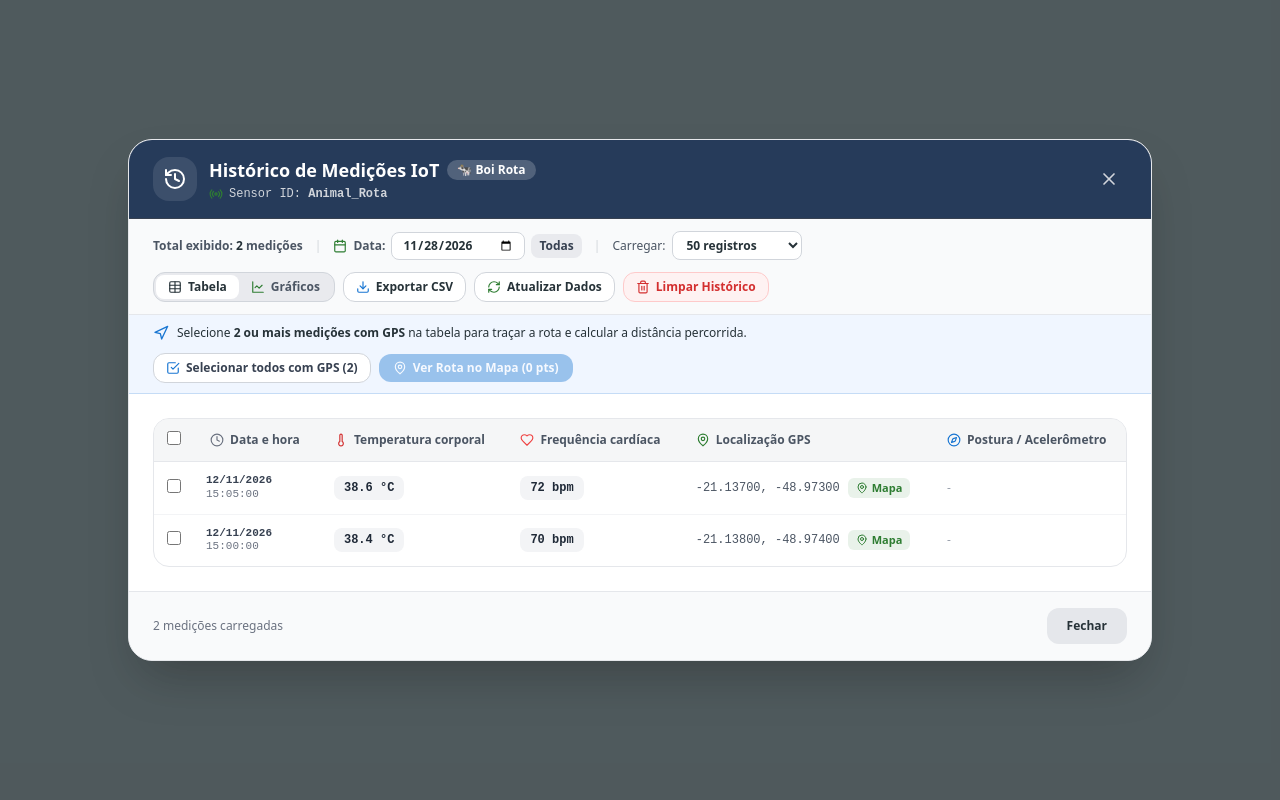
it: Modal de Histórico de Telemetria (HistoricoMedicoesModal) › mantém a barra de seleção de rota fixa e calcula distância ao selecionar 2 pontos com GPS
The image size is (1280, 800).
Check: the text "Selecionar todos com GPS (2)" is shown, box x1=186 y1=360 x2=358 y2=376
Click the button "Selecionar todos com GPS (2)" at point(262, 368), box x1=153 y1=353 x2=371 y2=383
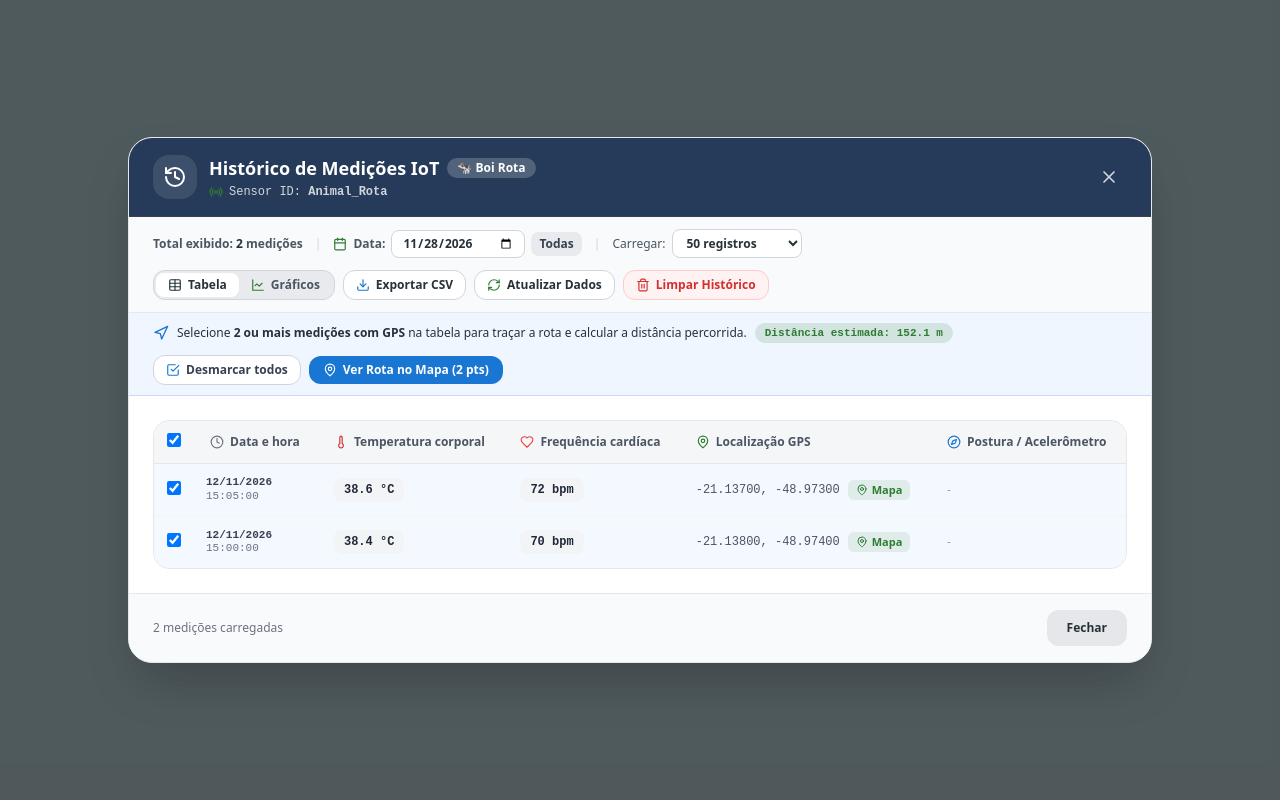
Check: the text "Distância estimada: 152.1 m" is shown, box x1=755 y1=323 x2=953 y2=343
Check: the button "Ver Rota no Mapa (2 pts)" is enabled, box x1=309 y1=356 x2=503 y2=384
